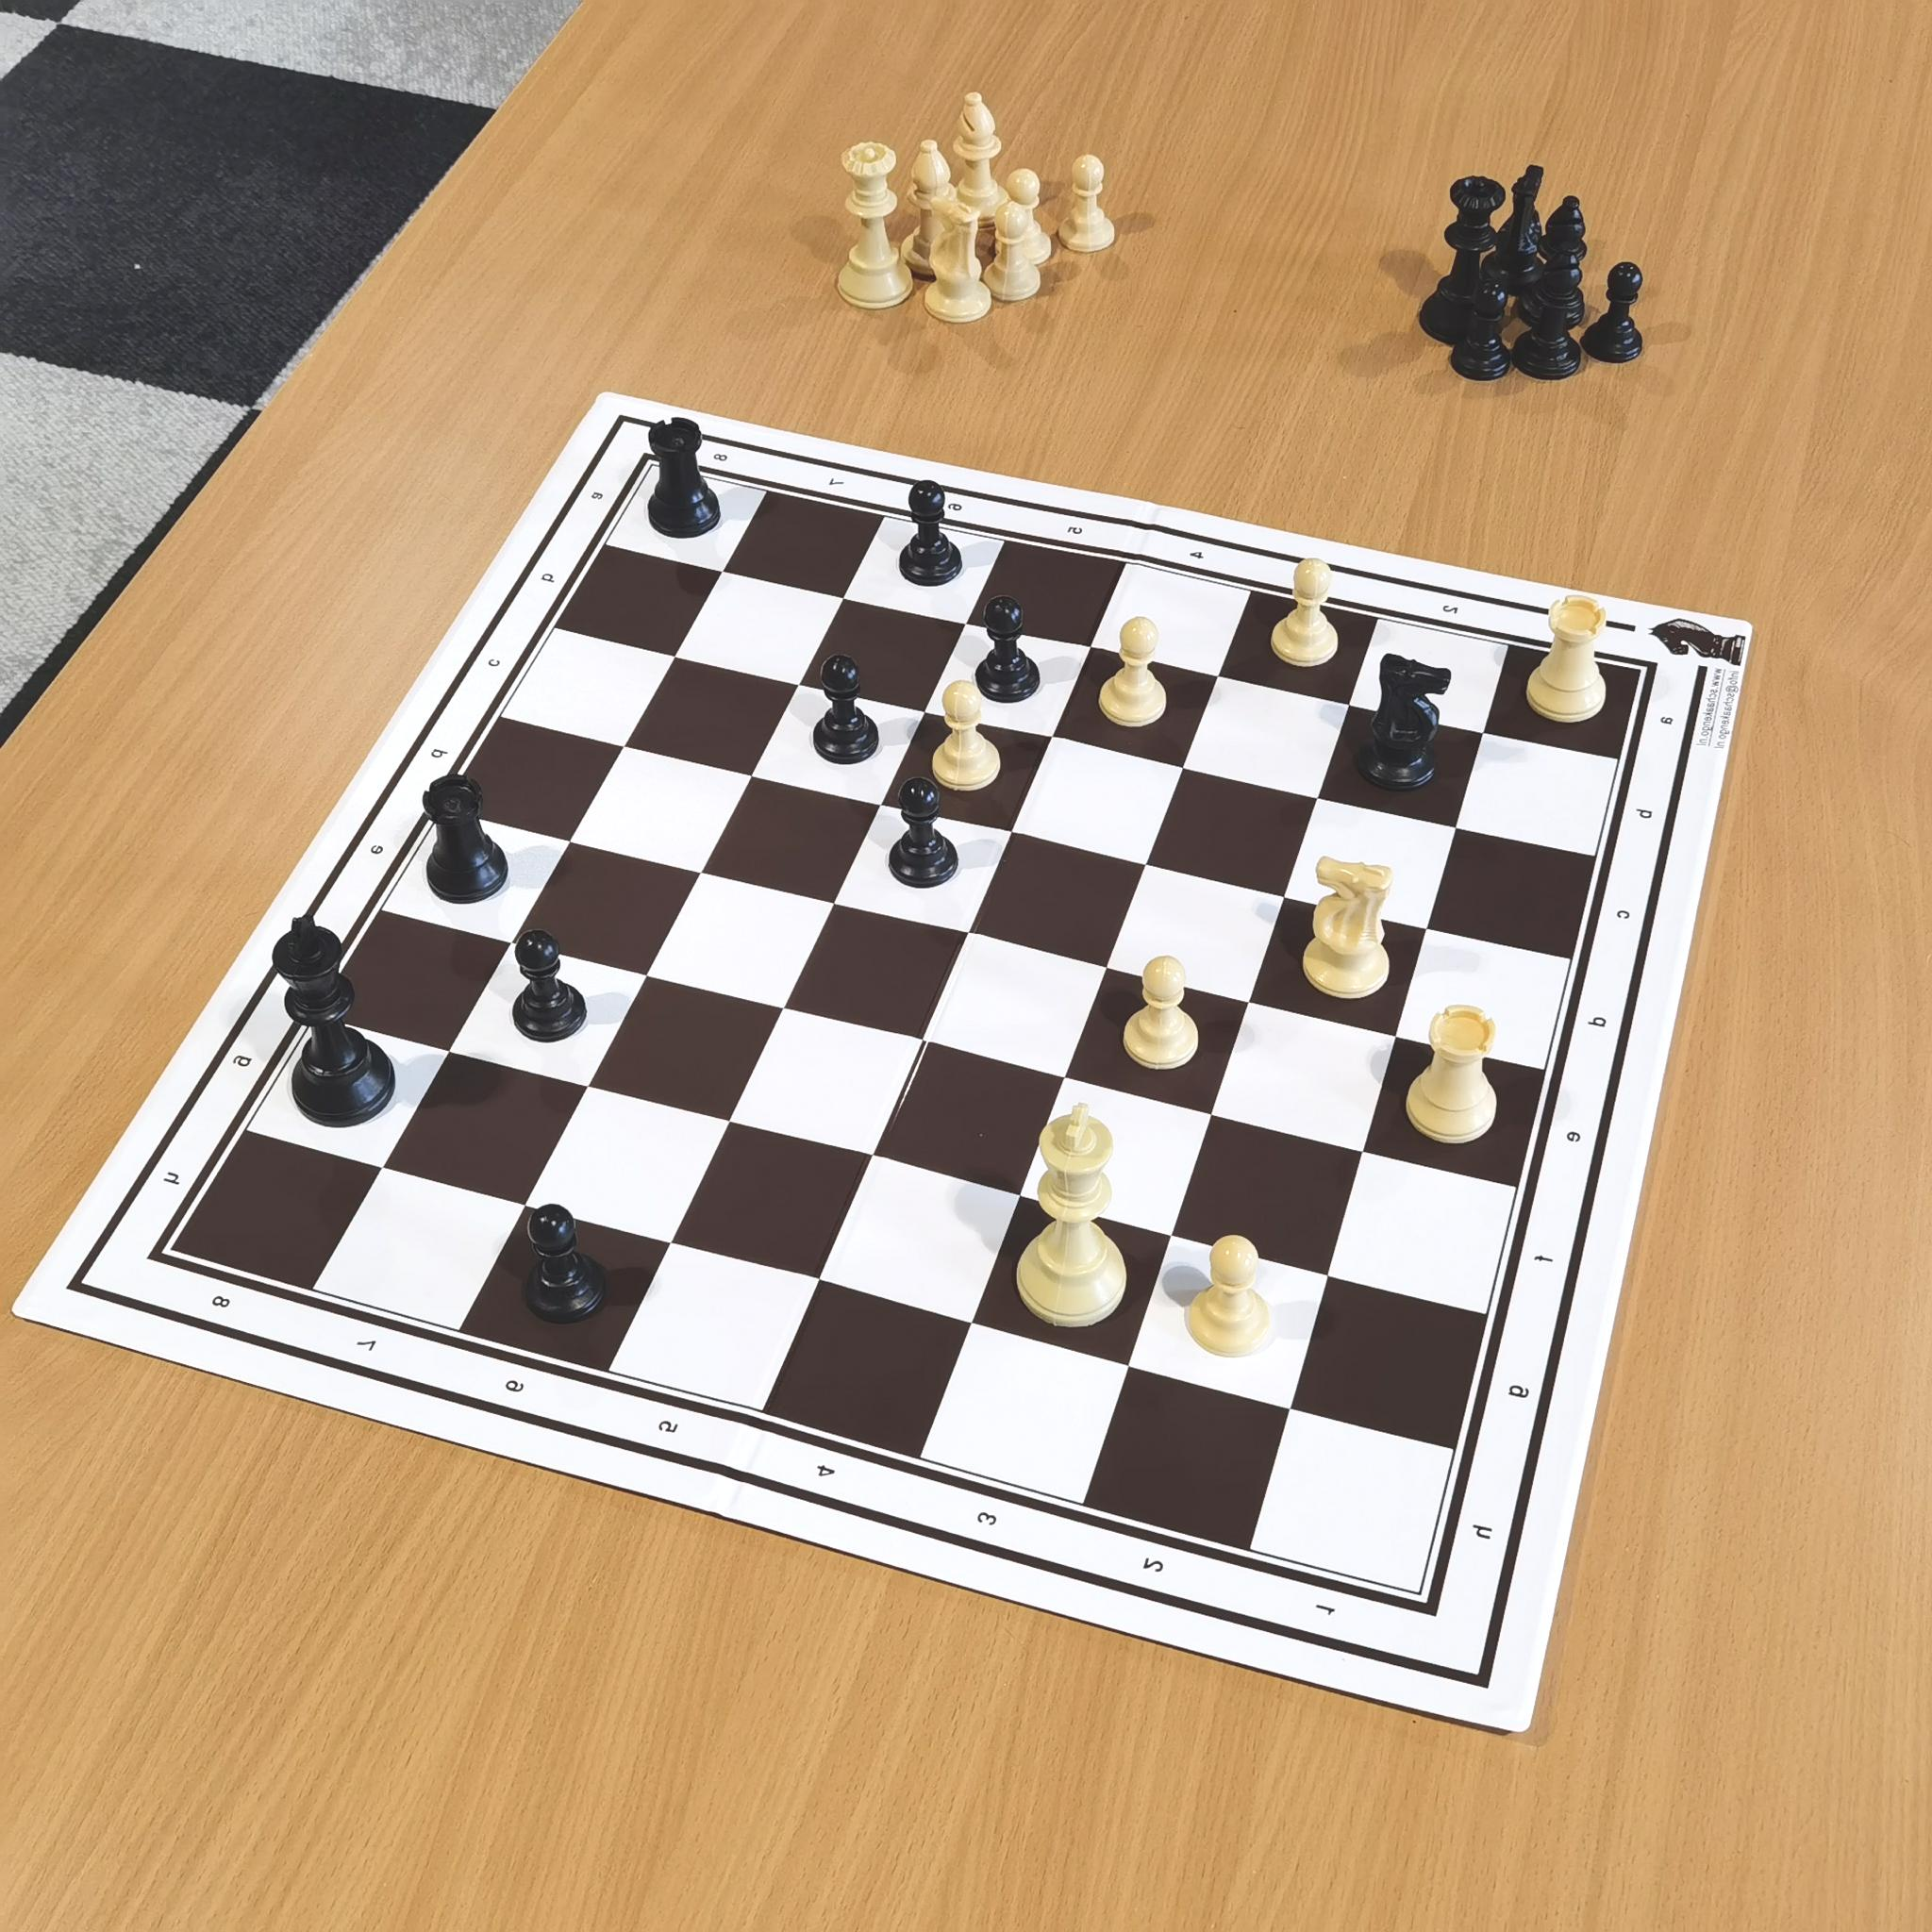corners: (143, 1214, 205, 1281), (1387, 1560, 1447, 1629), (628, 441, 681, 490), (1610, 649, 1667, 695)
eight: (195, 1274, 242, 1330), (702, 437, 734, 467)
one: (1292, 1583, 1346, 1633), (1560, 612, 1608, 651)
